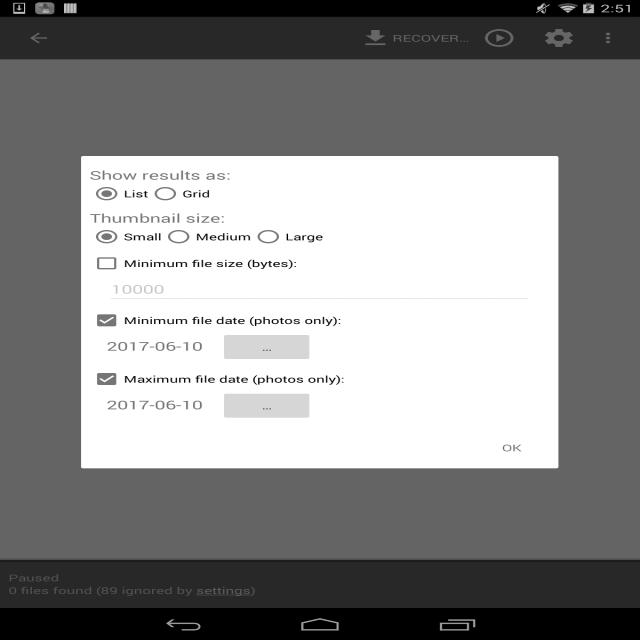Button: (220, 389, 314, 422), (220, 331, 314, 363), (477, 430, 546, 466)
CheckBox: (90, 368, 344, 390), (90, 310, 341, 331), (90, 253, 297, 274)
EditText: (106, 274, 532, 304)
RadioButton: (162, 226, 251, 247), (90, 226, 162, 247), (251, 226, 323, 247), (148, 183, 210, 204), (90, 183, 148, 204)
TextView: (89, 167, 550, 183), (89, 210, 550, 226), (106, 396, 202, 413), (106, 338, 202, 354)
